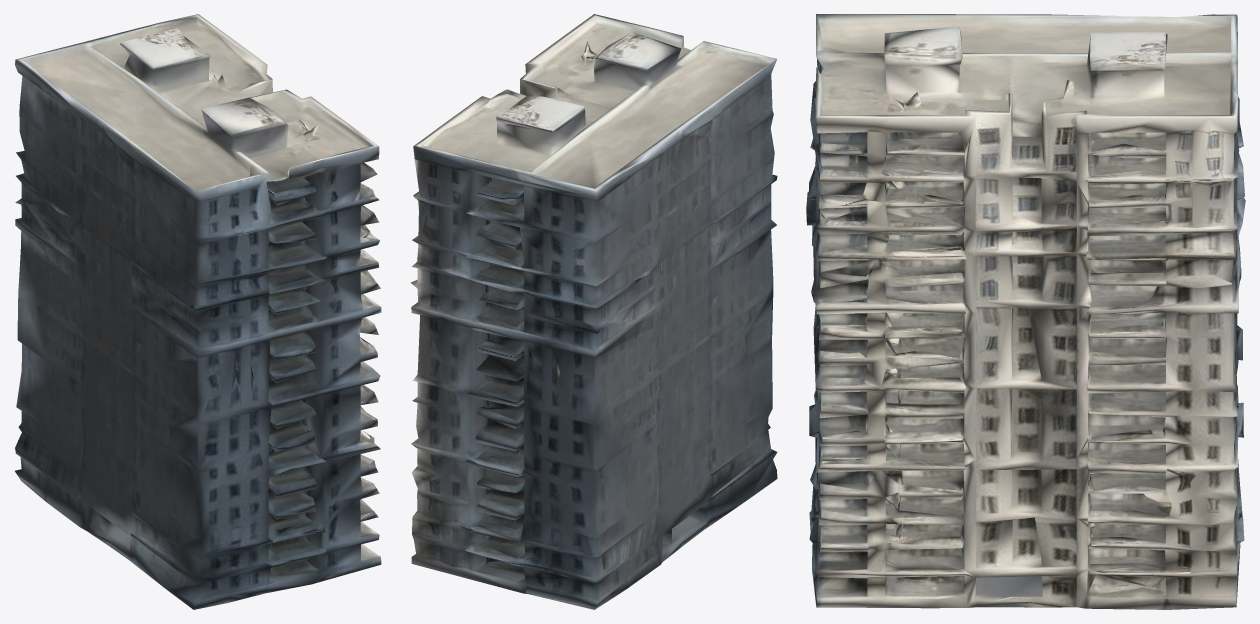
Rendered from hochhaus_wohnblock.glb.
3 views of the same model, side by side, from view 1: azimuth 30°, elevation 25°; view 2: azimuth 150°, elevation 25°; view 3: azimuth 270°, elevation 25° (orthographic). The views are drawn at different scales.
Visible parts, largest first — view 1: tripo_node_001b9dda-870e-4623-8a93-5a821a3c1ecb; view 2: tripo_node_001b9dda-870e-4623-8a93-5a821a3c1ecb; view 3: tripo_node_001b9dda-870e-4623-8a93-5a821a3c1ecb.
Boxes of the visible parts, x1,y1,x2,y2 form: tripo_node_001b9dda-870e-4623-8a93-5a821a3c1ecb: (15,14,381,609); tripo_node_001b9dda-870e-4623-8a93-5a821a3c1ecb: (411,14,777,609); tripo_node_001b9dda-870e-4623-8a93-5a821a3c1ecb: (806,14,1245,609).
Size of the model in its own units: 0.4471 by 0.9999 by 0.7549.
Materials: 1 (1 with a texture image).
